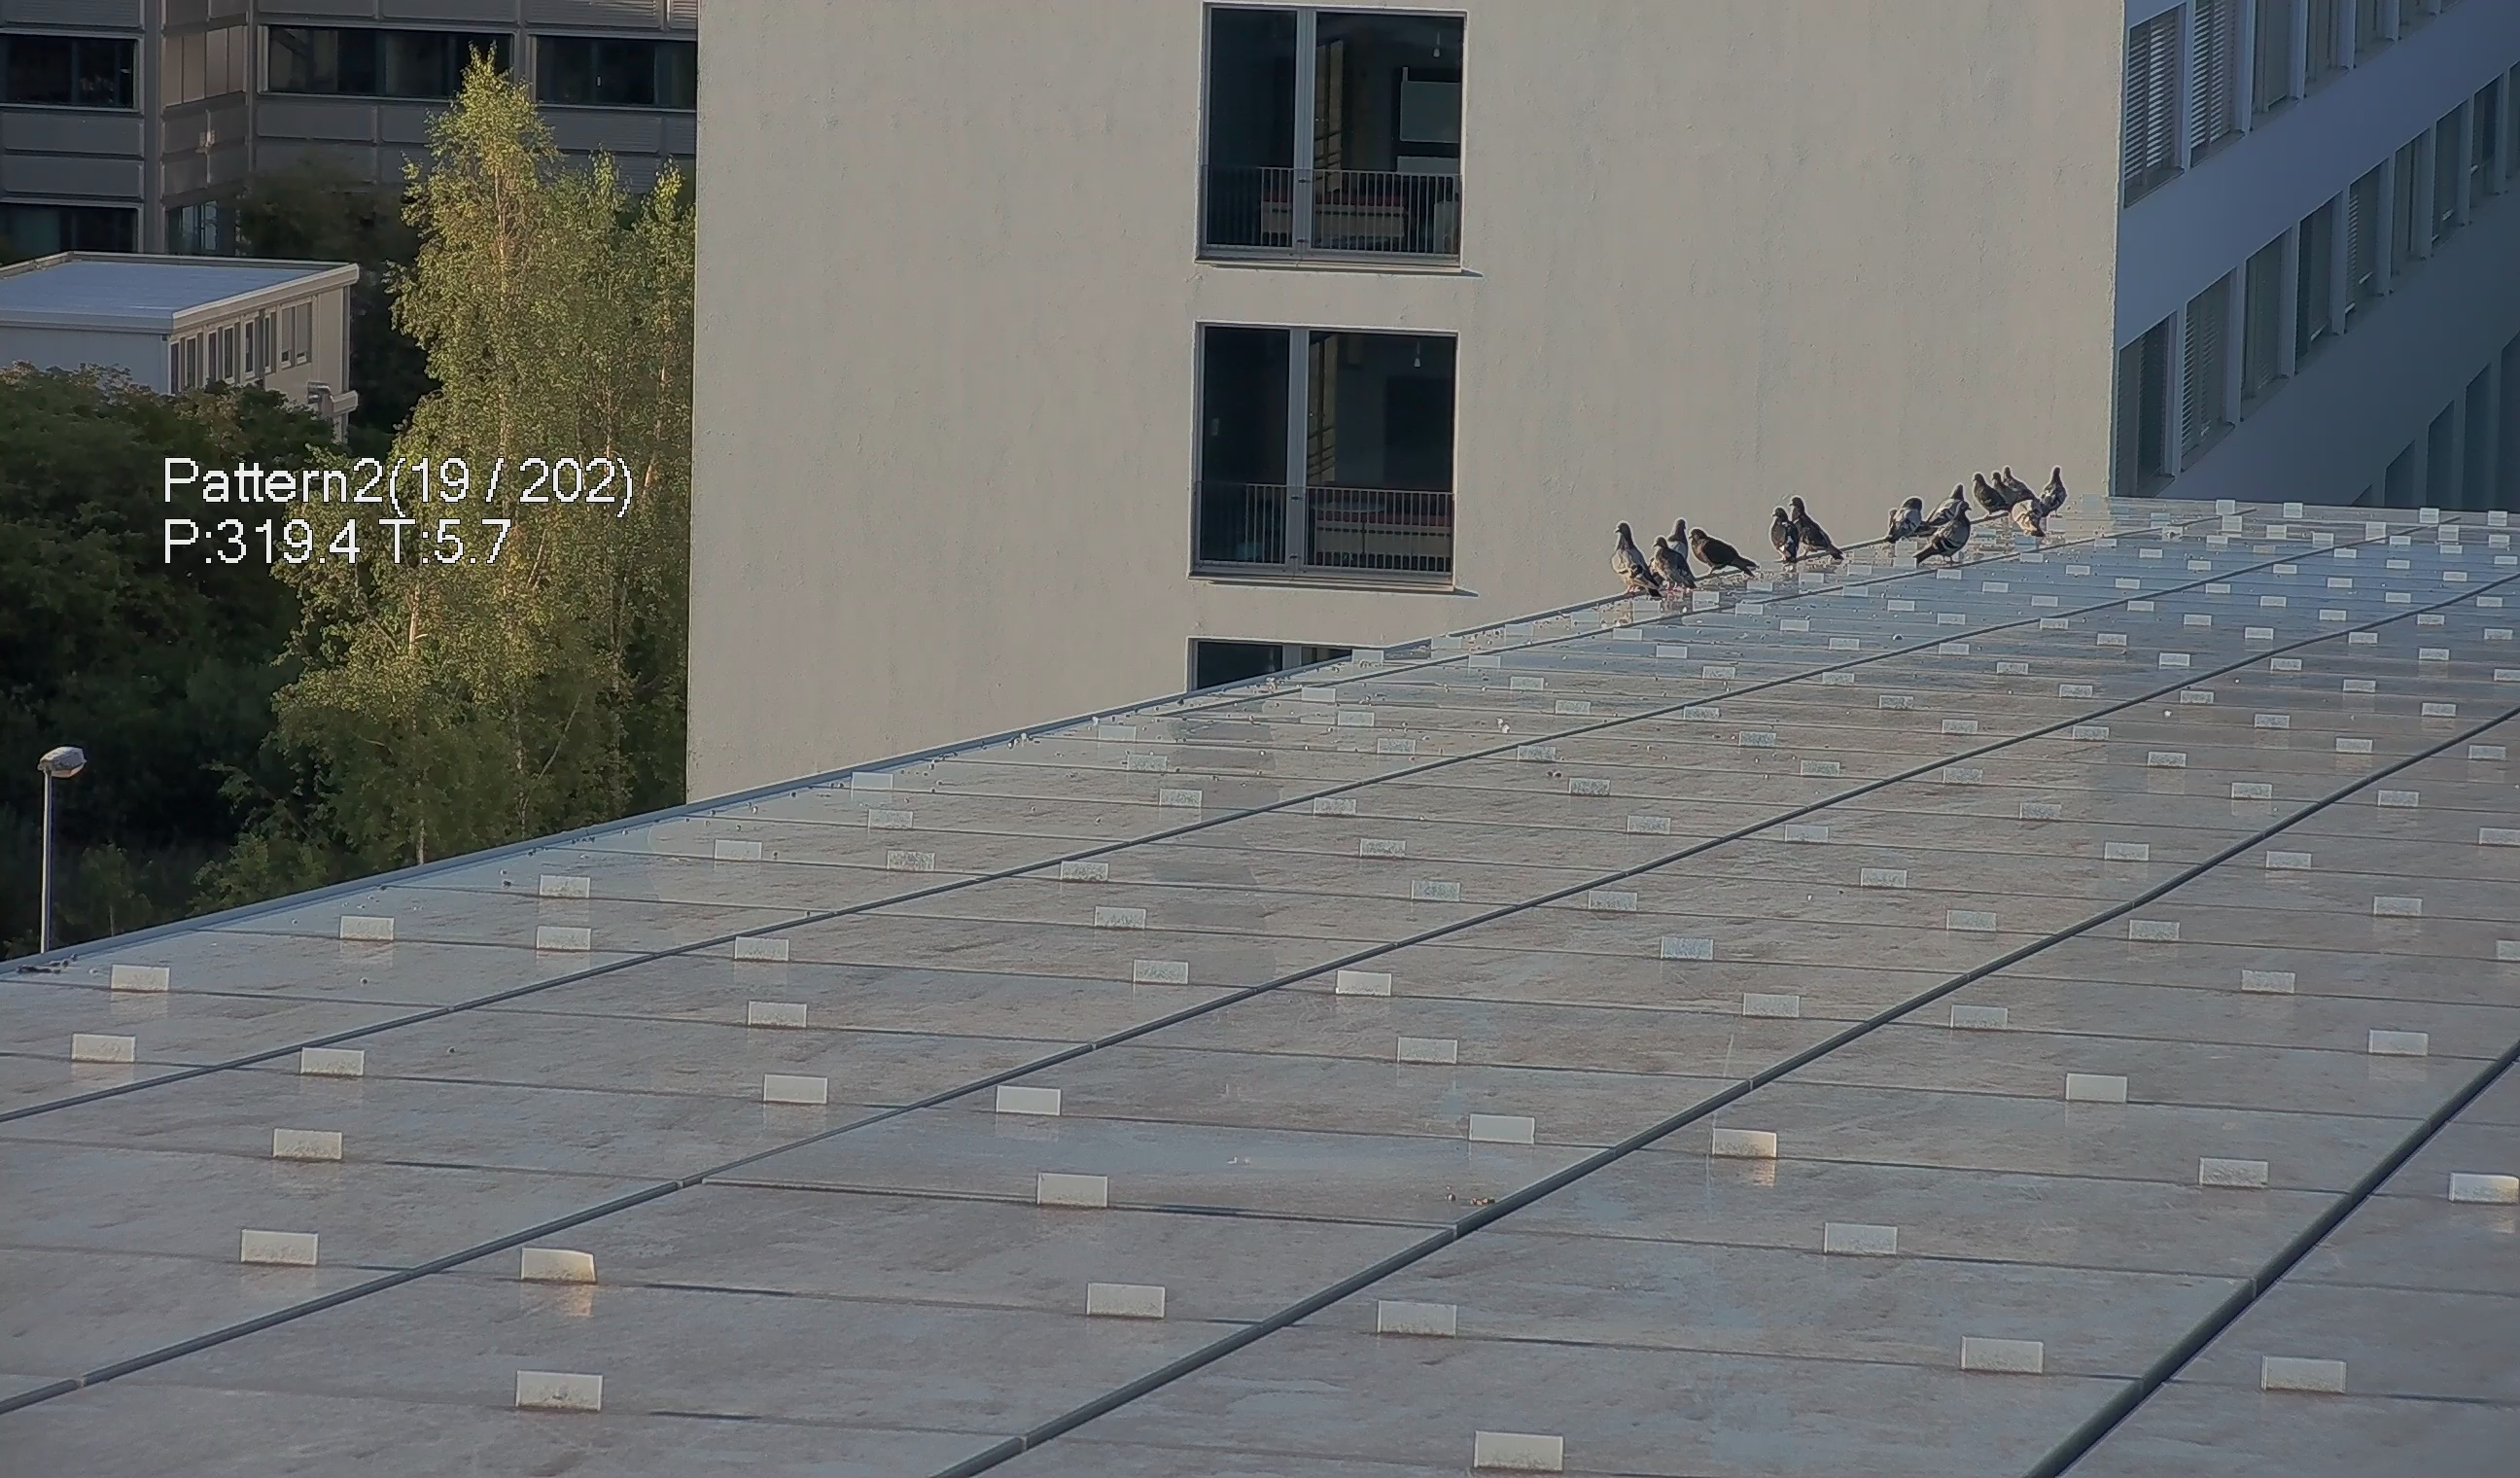Pigeon: (1607, 521, 1660, 607), (1688, 528, 1757, 579), (1917, 503, 1973, 565), (1788, 494, 1838, 556), (1653, 537, 1697, 588), (1769, 505, 1801, 567), (2008, 489, 2045, 537), (1971, 473, 2012, 516), (1890, 496, 1926, 544), (2040, 465, 2072, 509), (1929, 486, 1964, 523), (1669, 516, 1688, 552), (1992, 470, 2012, 494)
